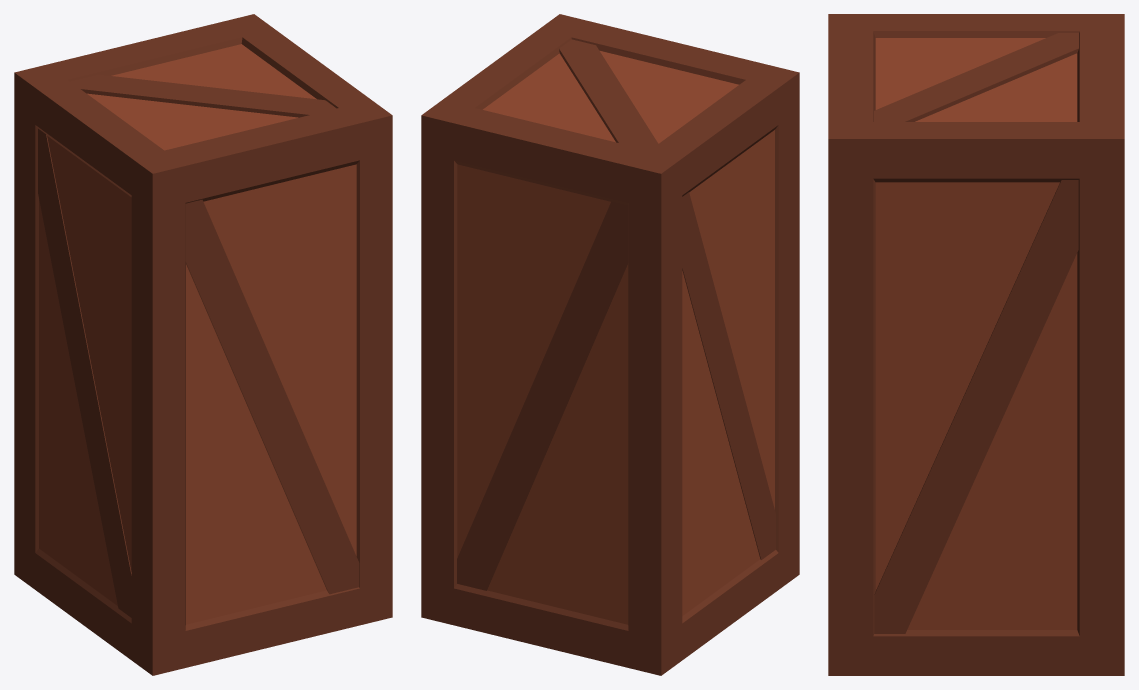
File: long crate.glb
The picture shows the model from 3 angles, left to right: view 1: azimuth 30°, elevation 25°; view 2: azimuth 150°, elevation 25°; view 3: azimuth 270°, elevation 25°; orthographic projection. The views are drawn at different scales.
Parts seen in each view (by area): view 1: Cube.001, Cube, Cube.006; view 2: Cube.001, Cube, Cube.006; view 3: Cube.001, Cube, Cube.006.
Part boxes in pixels (box(x1,y1,x2,y2)): Cube.001: box(14, 14, 392, 675); Cube: box(39, 44, 356, 624); Cube.006: box(38, 74, 359, 617); Cube.001: box(421, 14, 799, 675); Cube: box(457, 51, 774, 624); Cube.006: box(457, 39, 775, 590); Cube.001: box(828, 14, 1124, 675); Cube: box(875, 38, 1077, 629); Cube.006: box(874, 33, 1078, 633).
Size of the model in its own units: 1.84 by 3.68 by 1.84.
